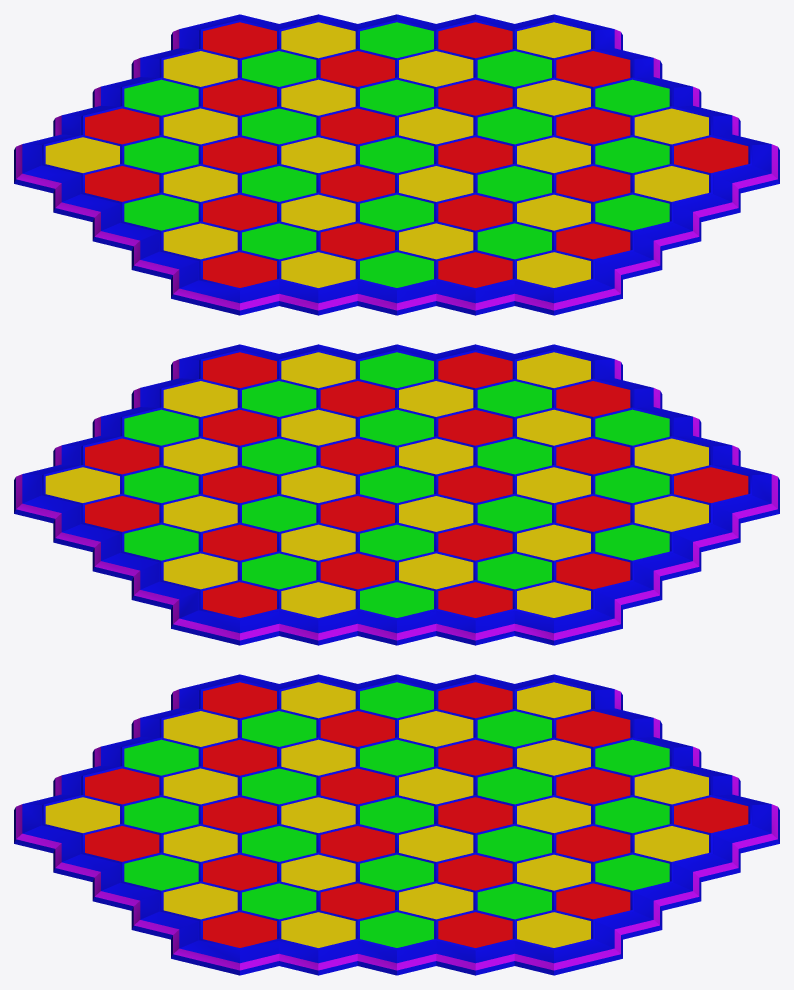
Rendered from NewBoard.fbx.
The picture shows the model from 3 angles, top to bottom: view 1: azimuth 30°, elevation 25°; view 2: azimuth 150°, elevation 25°; view 3: azimuth 270°, elevation 25°; orthographic projection.
Parts seen in each view (by area): view 1: board; view 2: board; view 3: board.
Boxes of the visible parts, left/top/right/bottom form: board: left=14, top=14, right=779, bottom=315; board: left=14, top=344, right=779, bottom=645; board: left=14, top=674, right=779, bottom=975.
Bounding box in the file's own units: 16.41 × 0.3342 × 17.87.
